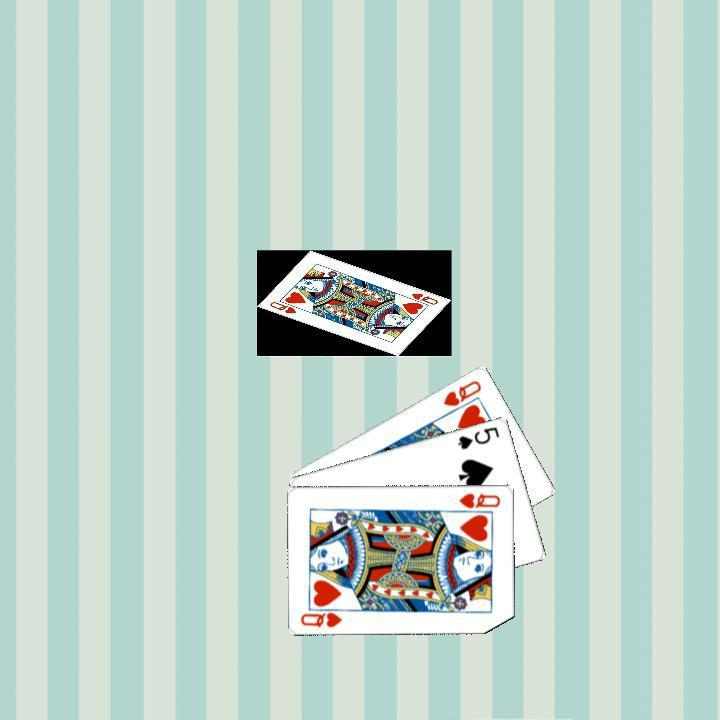5: (454, 422, 502, 451)
Q: (439, 375, 484, 408), (297, 603, 349, 629), (455, 488, 503, 510)
